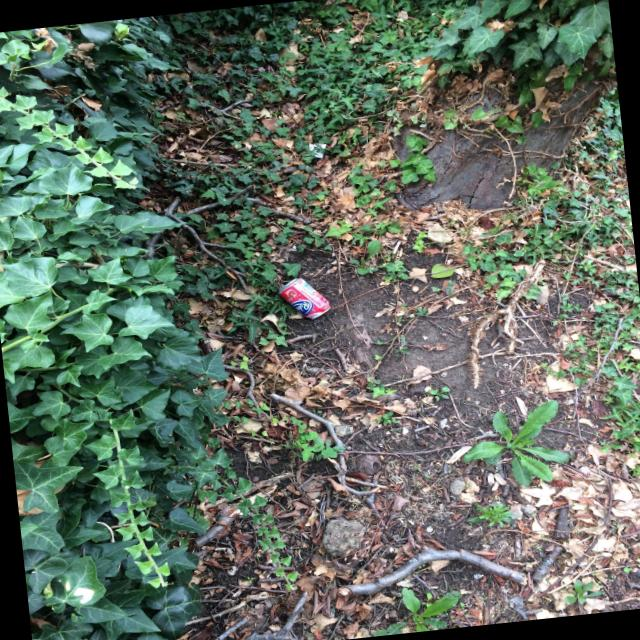less trash: (278, 278, 330, 318)
